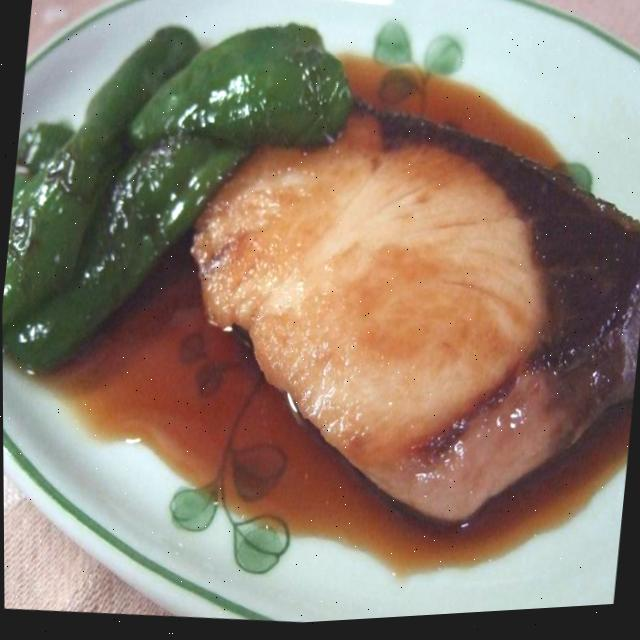熟制海鲜: (152, 36, 640, 584)
